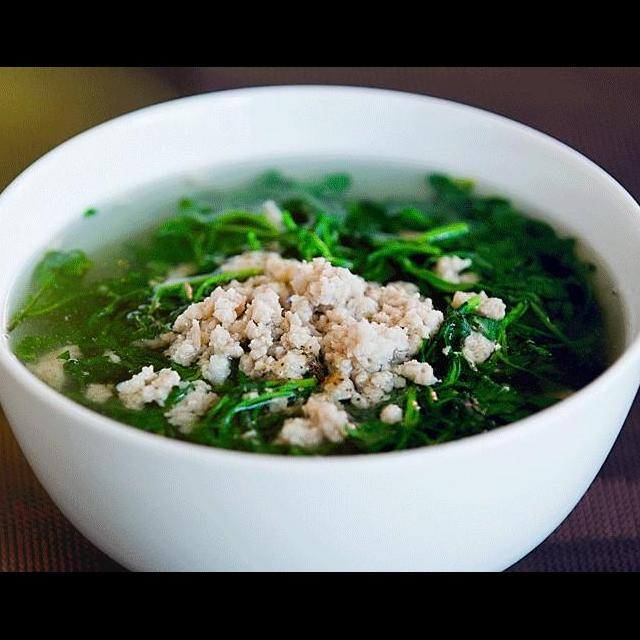thit bam: (107, 246, 447, 454), (432, 250, 510, 374)
